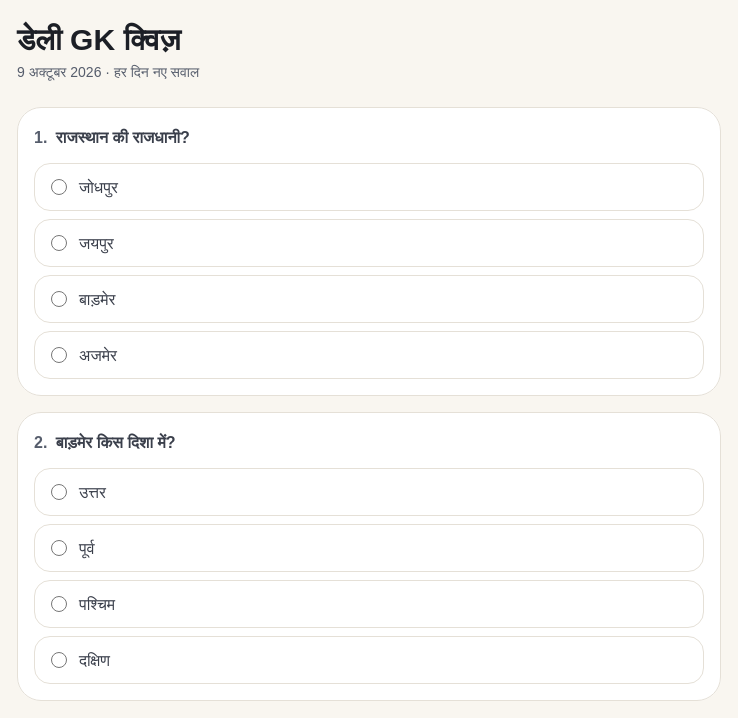
Test: Daily quiz › submit is disabled until every question is answered, then shows score, answers and streak
The image size is (738, 718).
Click the radio button labelled "जयपुर" at x=59, y=243, box left=51, top=235, right=67, bottom=251
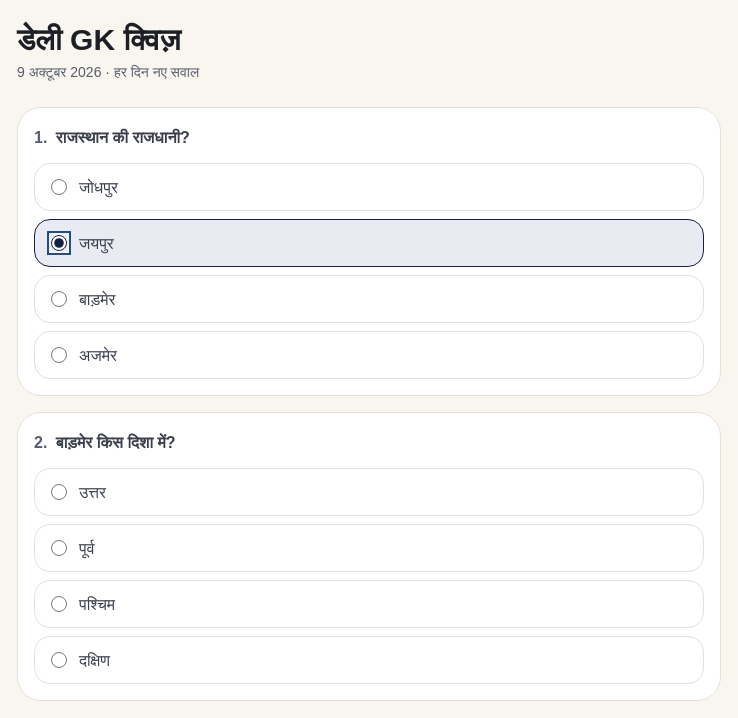
Click the radio button labelled "उत्तर" at x=59, y=492, box left=51, top=484, right=67, bottom=500
(page scrolled)
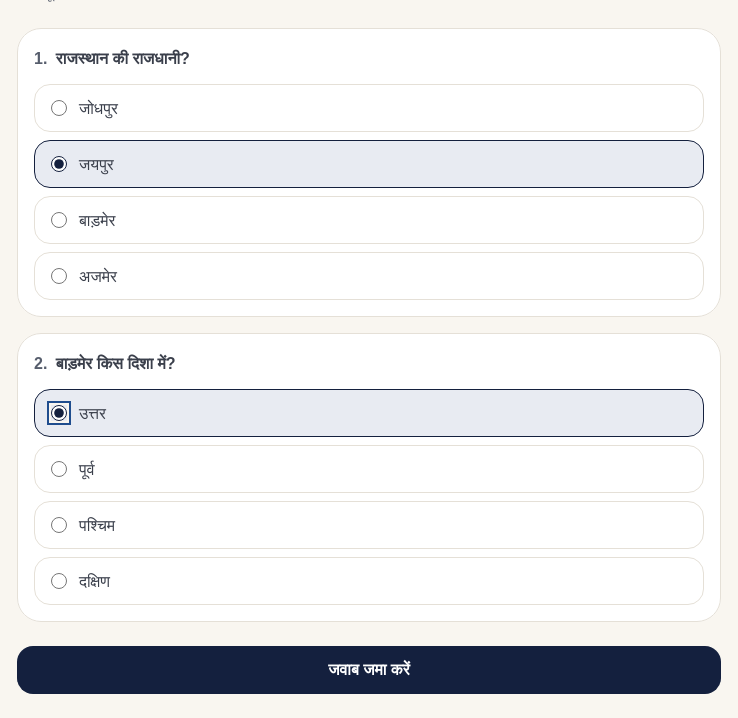
Click the button "जवाब जमा करें" at x=369, y=670, box left=17, top=646, right=721, bottom=694
(page scrolled)
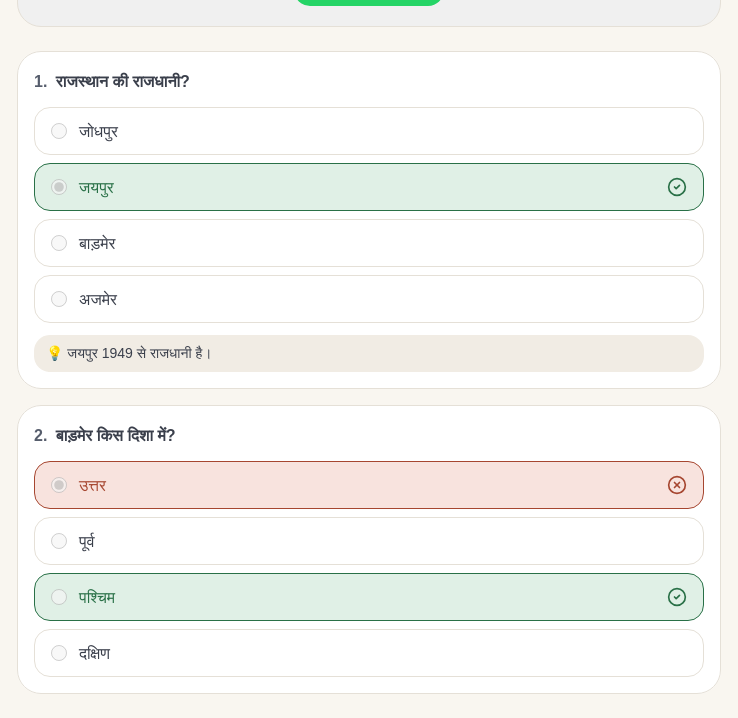
Now the text "💡 जयपुर 1949 से राजधानी है।" is shown, box left=34, top=335, right=704, bottom=372
Now the number of icons named "सही" is 2, box left=667, top=177, right=687, bottom=197; left=667, top=587, right=687, bottom=607
Now the number of icons named "गलत" is 1, box left=667, top=475, right=687, bottom=495
